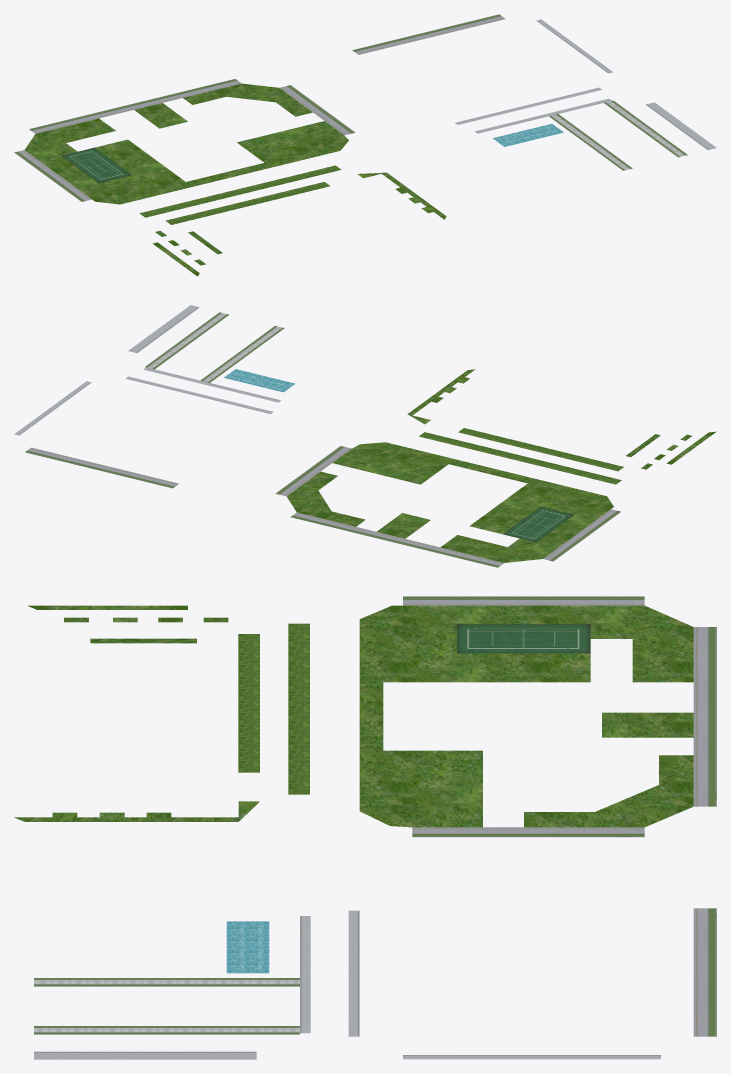
Rendered from tietu.obj.
3 renders of one model, top to bottom at view 1: azimuth 30°, elevation 25°; view 2: azimuth 150°, elevation 25°; view 3: azimuth 270°, elevation 25°, orthographic. The views are drawn at different scales.
Visible parts, largest first — view 1: Mesh214, Mesh219, Object308829734, Mesh803, Object69, Mesh207, Mesh796, Mesh75, Mesh77, Mesh3010; view 2: Mesh214, Mesh219, Object308829734, Mesh803, Object69, Mesh207, Mesh796, Mesh75, Mesh77, Mesh3010; view 3: Mesh214, Mesh219, Object308829734, Mesh803, Object69, Mesh207, Mesh796, Mesh75, Mesh77, Mesh3010.
Part boxes in pixels (x1,y1,x2,y2): Mesh214: [24, 83, 348, 204]; Mesh219: [14, 79, 355, 201]; Object308829734: [140, 165, 341, 224]; Mesh803: [549, 100, 687, 170]; Object69: [61, 147, 131, 182]; Mesh207: [153, 172, 446, 276]; Mesh796: [475, 98, 716, 149]; Mesh75: [352, 14, 505, 54]; Mesh77: [455, 19, 612, 124]; Mesh3010: [493, 124, 563, 146]; Mesh214: [287, 442, 613, 562]; Mesh219: [275, 446, 620, 567]; Object308829734: [419, 428, 623, 484]; Mesh803: [145, 312, 284, 382]; Object69: [503, 507, 573, 542]; Mesh207: [407, 369, 716, 469]; Mesh796: [128, 305, 280, 402]; Mesh75: [25, 447, 178, 488]; Mesh77: [14, 376, 273, 435]; Mesh3010: [224, 369, 295, 392]; Mesh214: [359, 605, 693, 827]; Mesh219: [403, 596, 716, 837]; Object308829734: [238, 623, 309, 794]; Mesh803: [34, 978, 299, 1034]; Object69: [457, 624, 590, 653]; Mesh207: [14, 605, 259, 821]; Mesh796: [34, 916, 310, 1059]; Mesh75: [693, 908, 716, 1036]; Mesh77: [348, 910, 660, 1059]; Mesh3010: [226, 921, 269, 973].
Size of the model in its own units: 387 by 0.1251 by 248.
6 materials, 6 textured.
